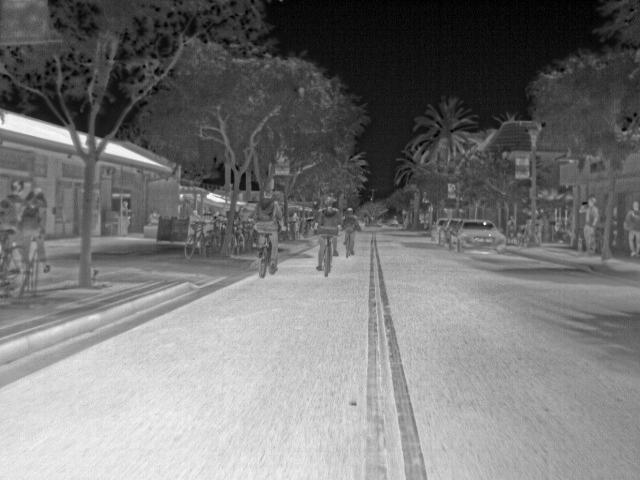car: (450, 218, 508, 253), (440, 216, 462, 244), (431, 216, 449, 242), (386, 217, 400, 227)
person: (255, 187, 281, 271), (316, 196, 339, 270), (1, 180, 26, 242), (579, 197, 601, 255), (25, 186, 47, 242), (622, 201, 640, 257), (120, 200, 133, 235), (343, 205, 358, 231), (508, 212, 518, 239), (290, 209, 301, 233)
